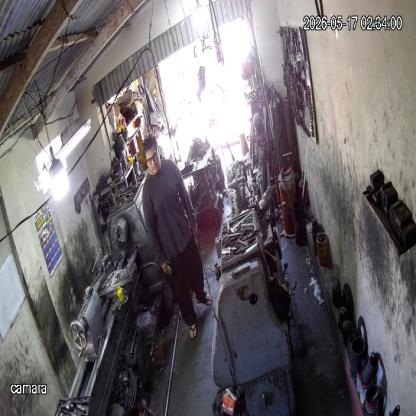lentes: (145, 151, 158, 166)
